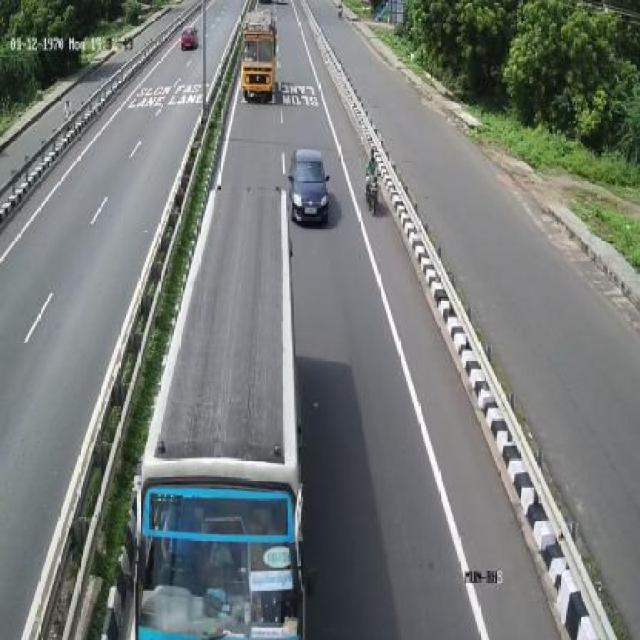car: (289, 145, 334, 229)
